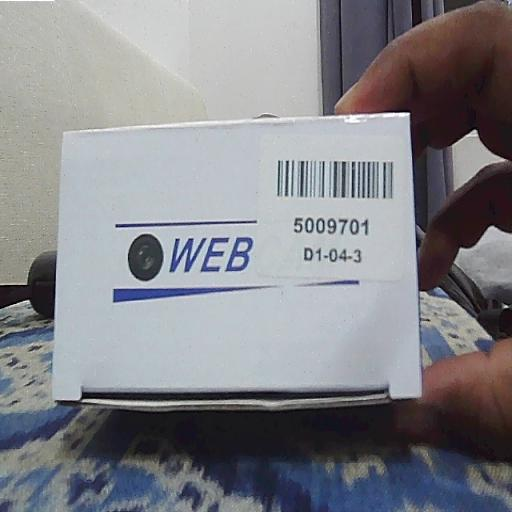webcam_box: (56, 120, 422, 410)
